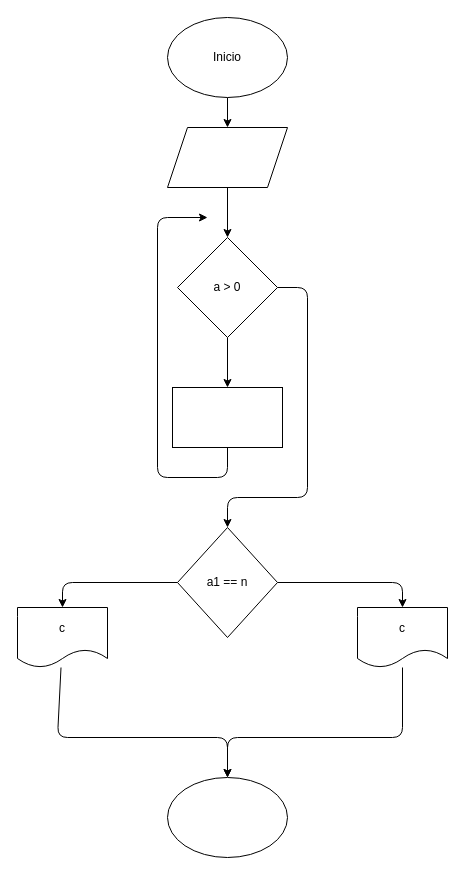
The diagram is 465 pixels wide and 875 high, and some of its shapes have lost their labels. Each missing label, with the centre of its shape:
a a1 = a n =: the point at 227,157
b = a % 10 n = n * 10 + b a = a // 10: the point at 227,417
Fin: the point at 227,817
